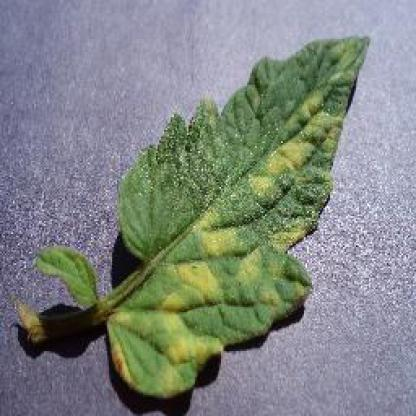bad leaf: (52, 103, 342, 398)
